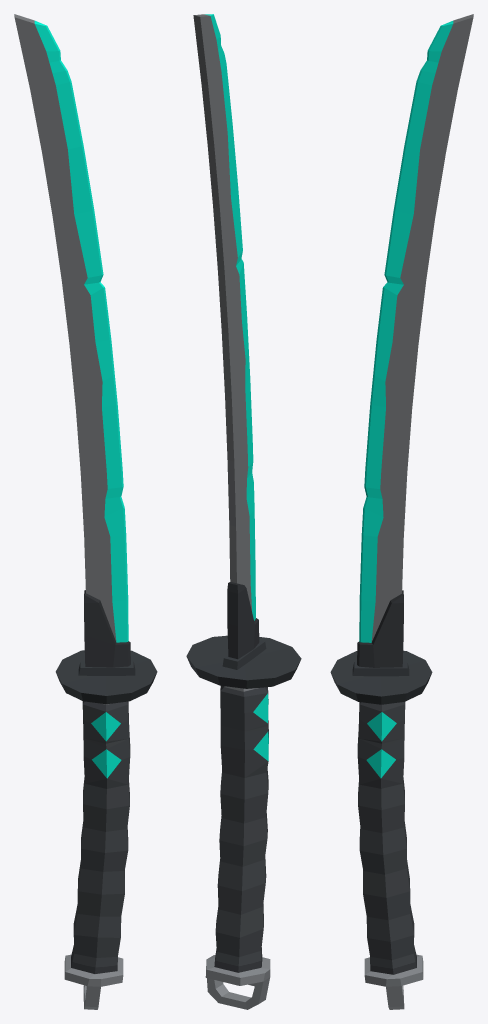
Rendered from SM_Wep_Sword_01.fbx.
The picture shows the model from 3 angles, left to right: view 1: azimuth 90°, elevation 25°; view 2: azimuth 150°, elevation 25°; view 3: azimuth 270°, elevation 25°; orthographic projection. The views are drawn at different scales.
Parts seen in each view (by area): view 1: SM_Wep_Sword_01; view 2: SM_Wep_Sword_01; view 3: SM_Wep_Sword_01.
Part boxes in pixels (left/top/right/bottom): SM_Wep_Sword_01: left=14, top=14, right=157, bottom=1009; SM_Wep_Sword_01: left=186, top=14, right=301, bottom=1009; SM_Wep_Sword_01: left=330, top=14, right=473, bottom=1009.
Size of the model in its own units: 15.41 by 146 by 19.14.
